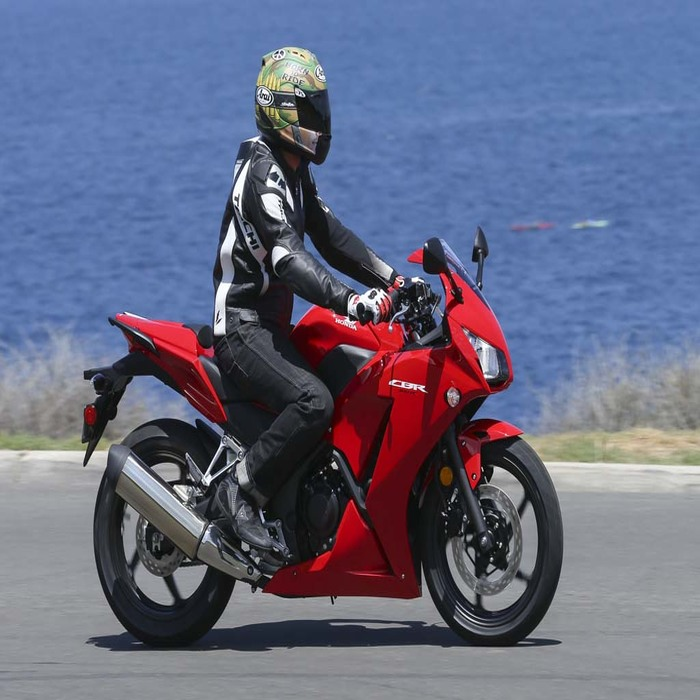h: (252, 46, 342, 173)
